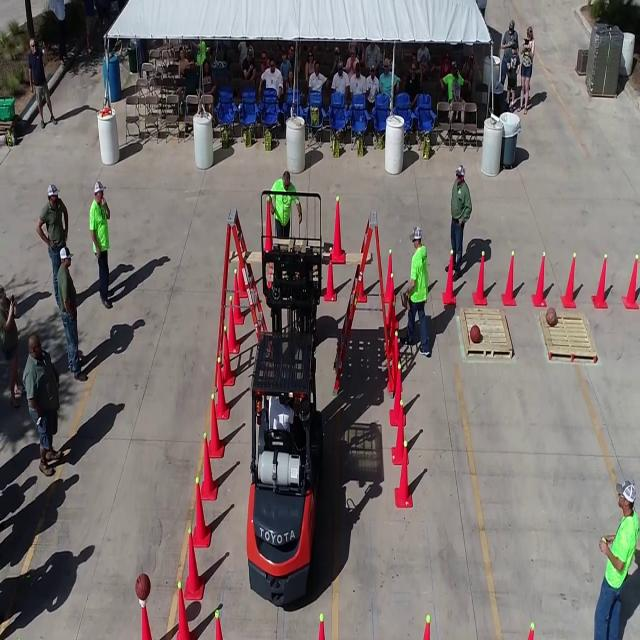Chariot elevateur: (235, 262, 330, 616)
